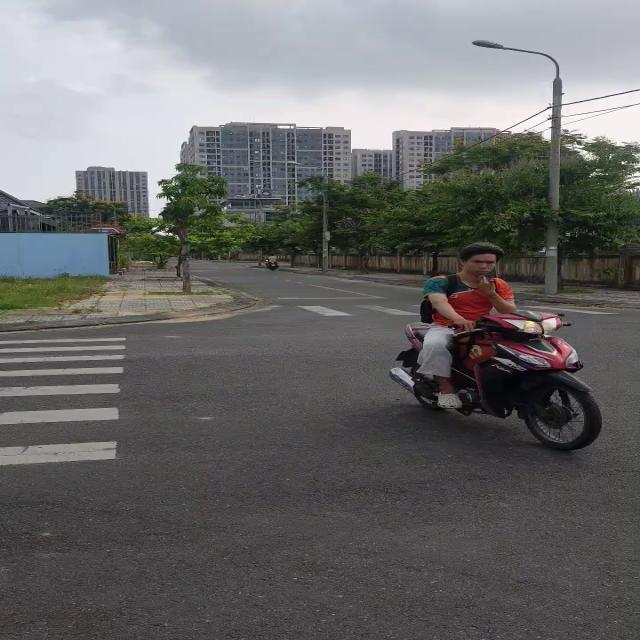without_helmet: (453, 237, 512, 283)
